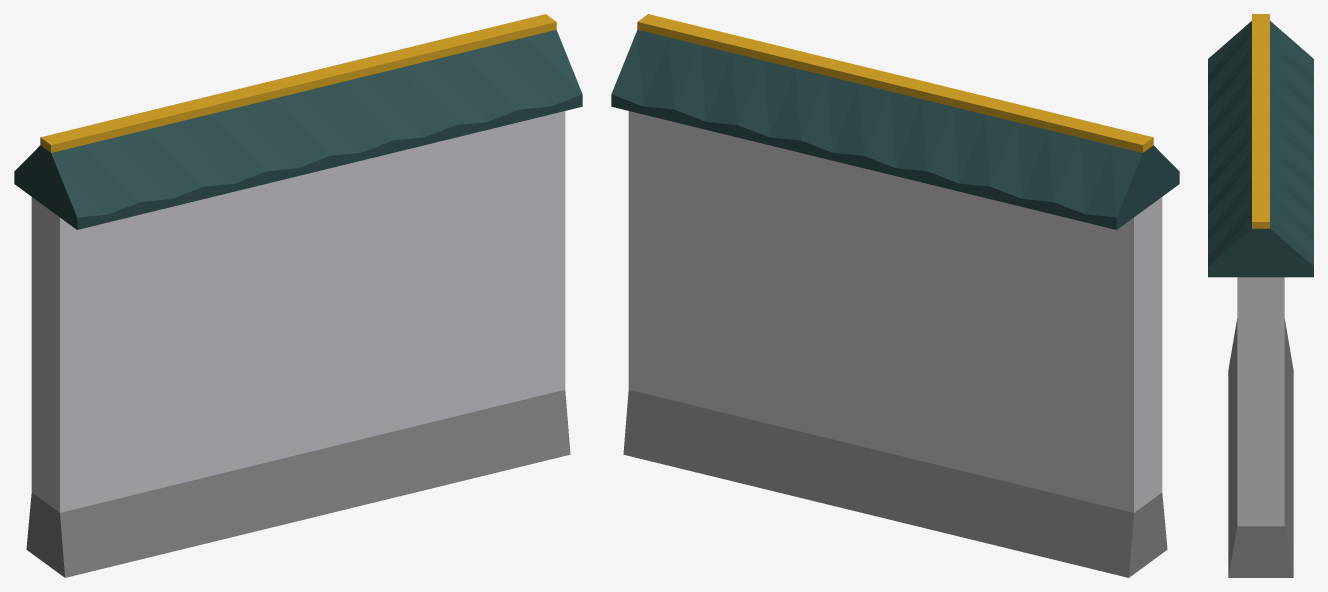
File: Asian_Prop_Building_Fence_Wall_Simple_04.FBX
The picture shows the model from 3 angles, left to right: view 1: azimuth 30°, elevation 25°; view 2: azimuth 150°, elevation 25°; view 3: azimuth 270°, elevation 25°; orthographic projection. The views are drawn at different scales.
Visible parts, largest first — view 1: Asian_Prop_Building_Fence_Wall_Simple_04; view 2: Asian_Prop_Building_Fence_Wall_Simple_04; view 3: Asian_Prop_Building_Fence_Wall_Simple_04.
Boxes of the visible parts, x1,y1,x2,y2 form: Asian_Prop_Building_Fence_Wall_Simple_04: (14, 14, 582, 577); Asian_Prop_Building_Fence_Wall_Simple_04: (611, 14, 1179, 577); Asian_Prop_Building_Fence_Wall_Simple_04: (1208, 14, 1313, 577).
Size of the model in its own units: 5167 by 4128 by 1112.
